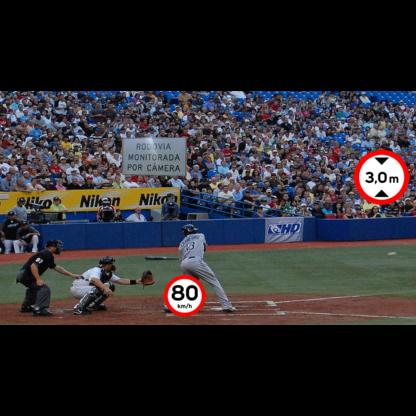I-E: (122, 136, 187, 177)
R-15: (354, 149, 410, 205)
R-19: (164, 275, 206, 317)
